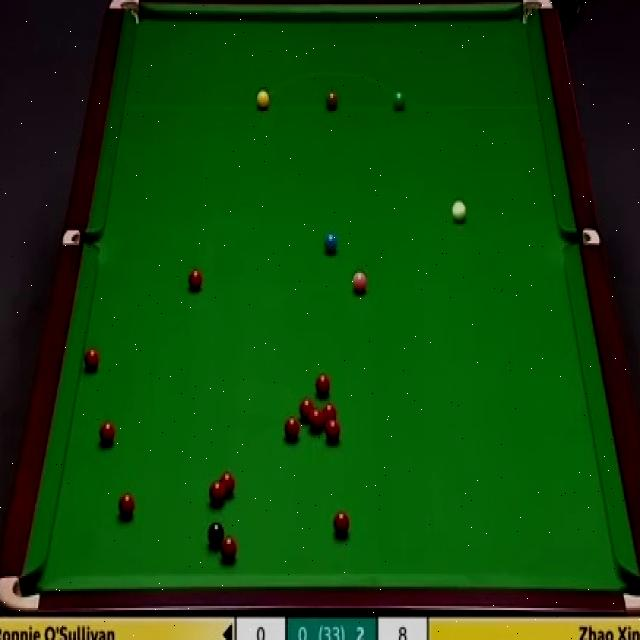black-ball: (208, 522, 225, 552)
blue-ball: (324, 230, 338, 255)
brown-ball: (326, 88, 338, 110)
green-ball: (392, 92, 406, 112)
pink-ball: (352, 270, 368, 294)
red-ball: (116, 492, 136, 520), (332, 509, 351, 538), (220, 535, 237, 564), (82, 348, 99, 376), (100, 418, 116, 447), (209, 480, 226, 506), (315, 373, 330, 399), (220, 470, 235, 496), (285, 417, 300, 442), (299, 397, 313, 422), (188, 268, 203, 290), (326, 420, 340, 443), (308, 408, 322, 429), (323, 404, 336, 426)
white-ball: (450, 198, 466, 225)
yellow-ball: (256, 90, 269, 112)
